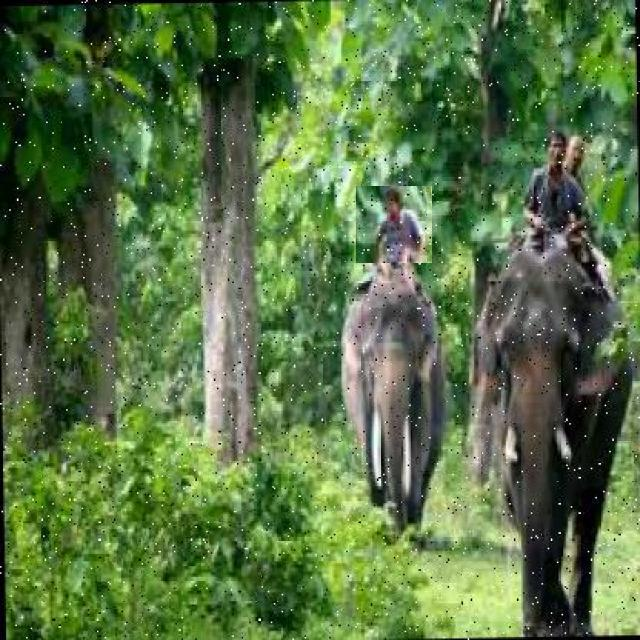p_time: (464, 248, 628, 604), (316, 277, 462, 500)
poacher: (504, 122, 618, 238), (356, 186, 432, 263)
